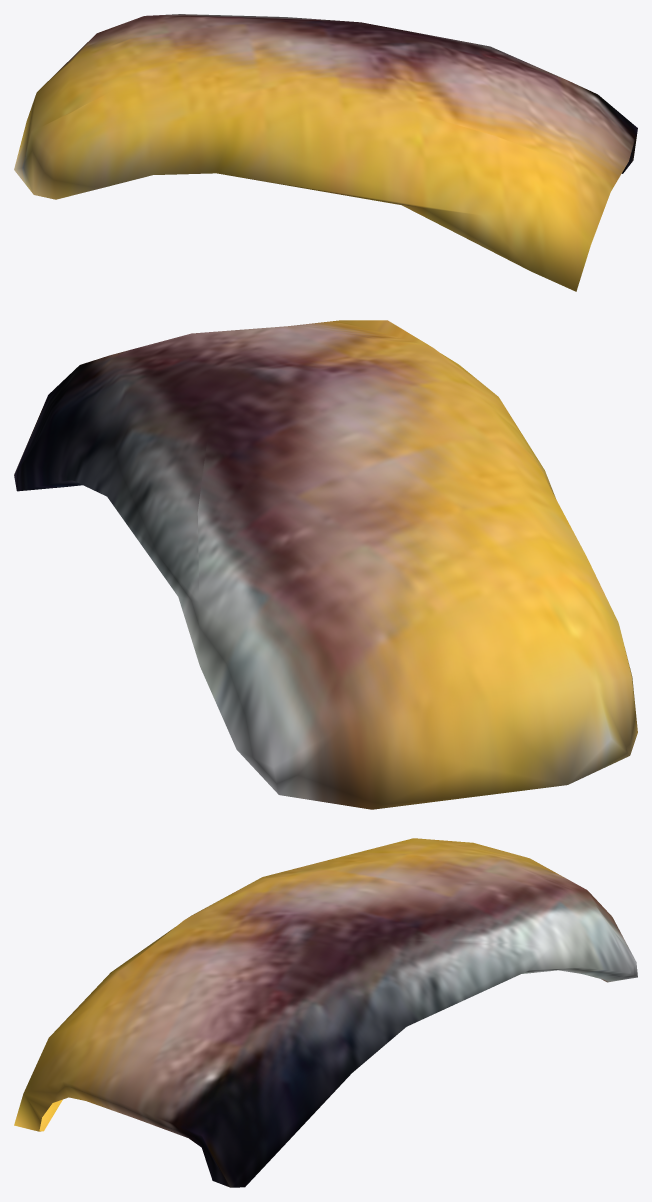
File: herringsashimi.fbx
3 renders of one model, top to bottom at view 1: azimuth 30°, elevation 25°; view 2: azimuth 150°, elevation 25°; view 3: azimuth 270°, elevation 25°, orthographic. The views are drawn at different scales.
Parts seen in each view (by area): view 1: Salmon 4.005; view 2: Salmon 4.005; view 3: Salmon 4.005.
Part boxes in pixels (x1,y1,x2,y2): Salmon 4.005: (14,14,637,291); Salmon 4.005: (14,320,637,809); Salmon 4.005: (14,838,637,1187).
Bounding box in the file's own units: 101 × 31.64 × 102.
Materials: 1 (1 with a texture image).
